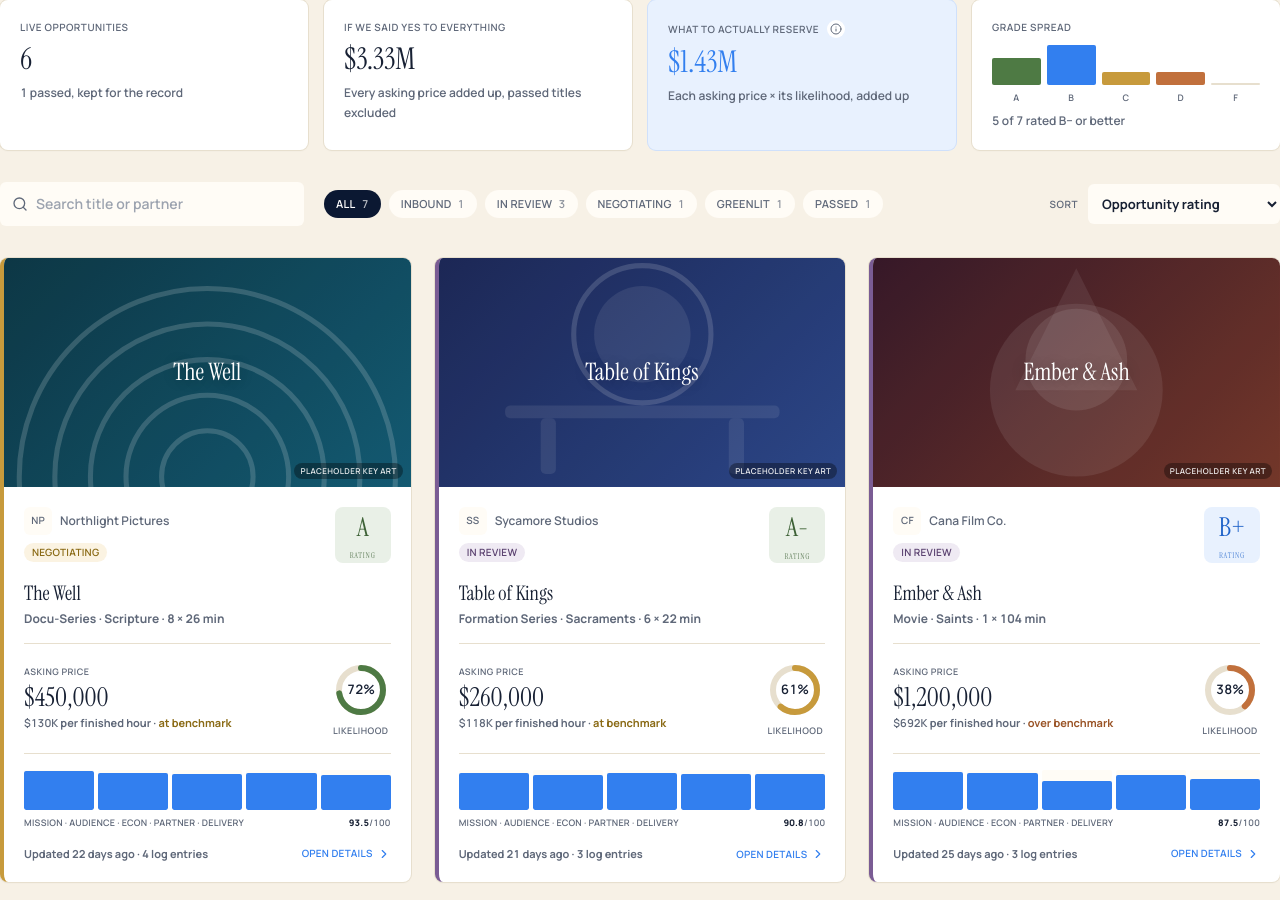
Test: CoproductionSlate › reveals the grading standard behind a sub-score on request
The image size is (1280, 900).
Click the button with aria-label "Open details for The Well": (207, 570) [4,258,411,882]
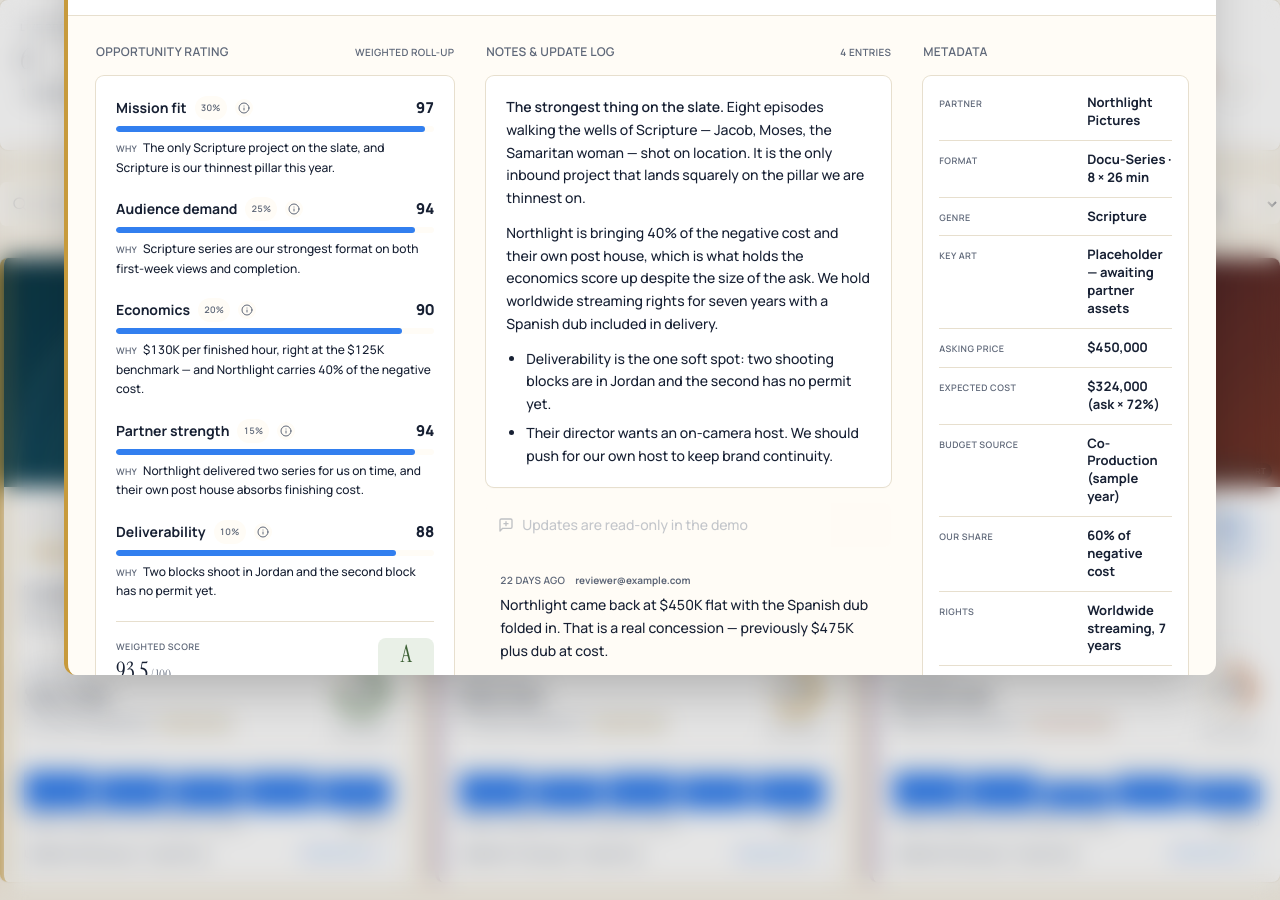
Check: the text "Lands on a named fiscal-year pillar" is not shown
Click the button named "What we evaluate for Mission fit": (244, 108) [235,99,253,117]
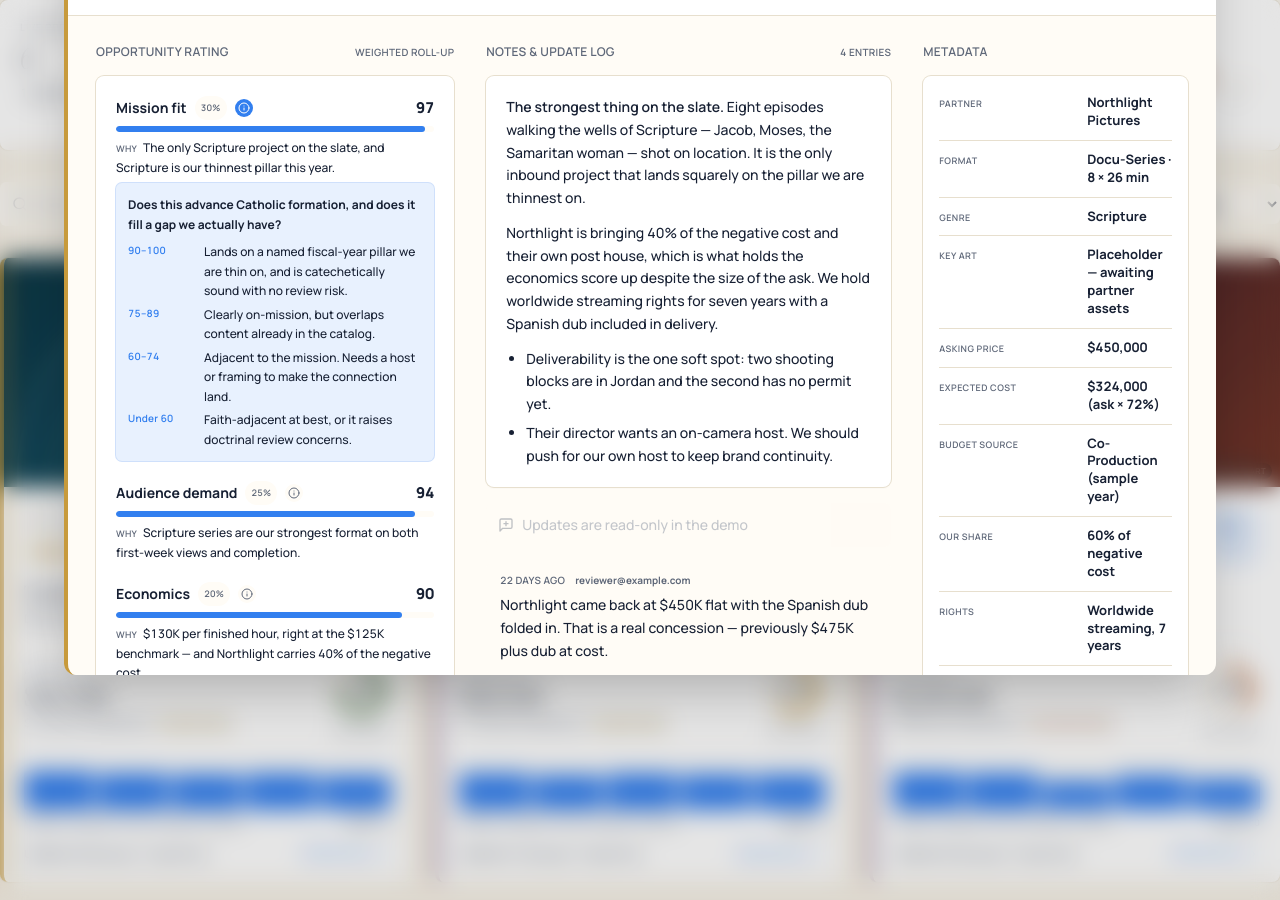
Check: the text "Lands on a named fiscal-year pillar" is shown, box [204,243,415,299]
